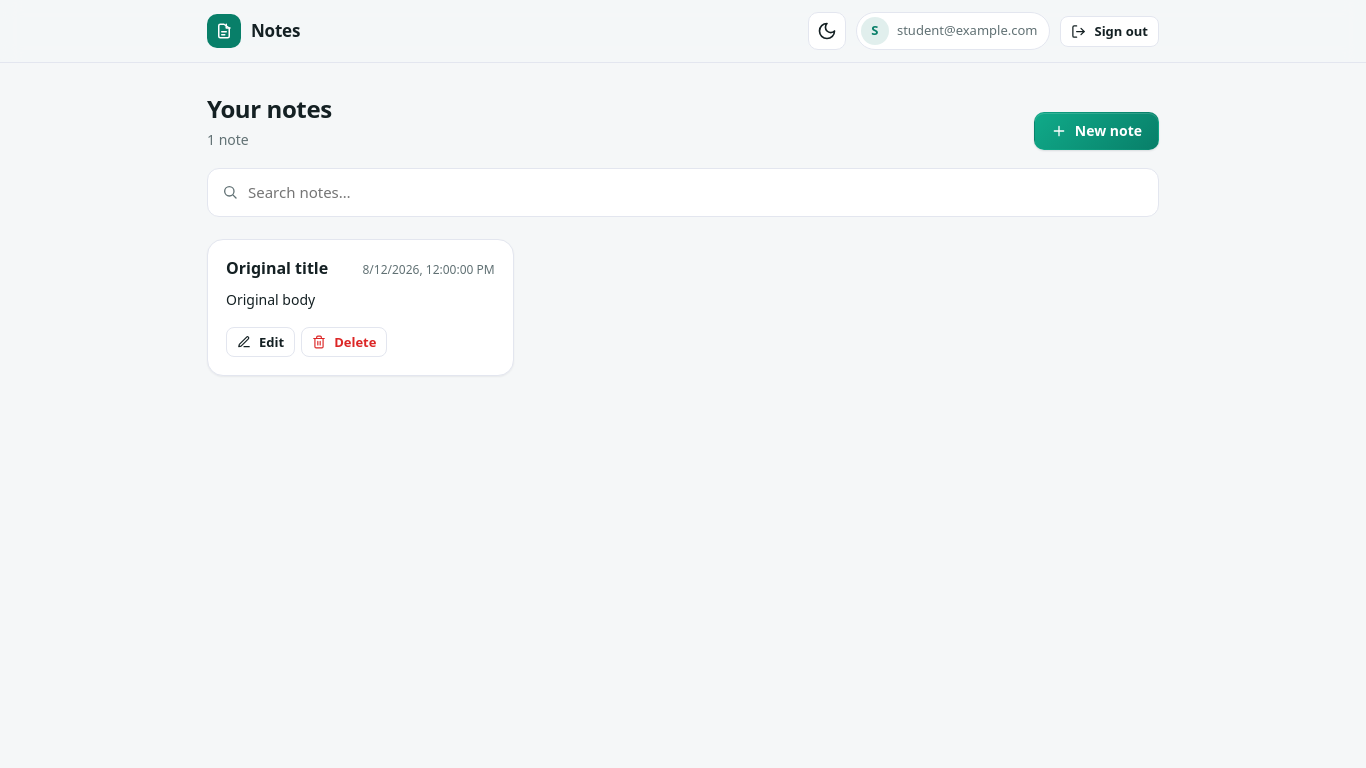
Test: AppShell state transitions › deletes after confirmation without refetching the list
The width and height of the screenshot is (1366, 768).
Check: the heading "Original title" is shown, box [226, 258, 328, 279]
Click the button "Delete" at [344, 342], box [301, 328, 387, 358]
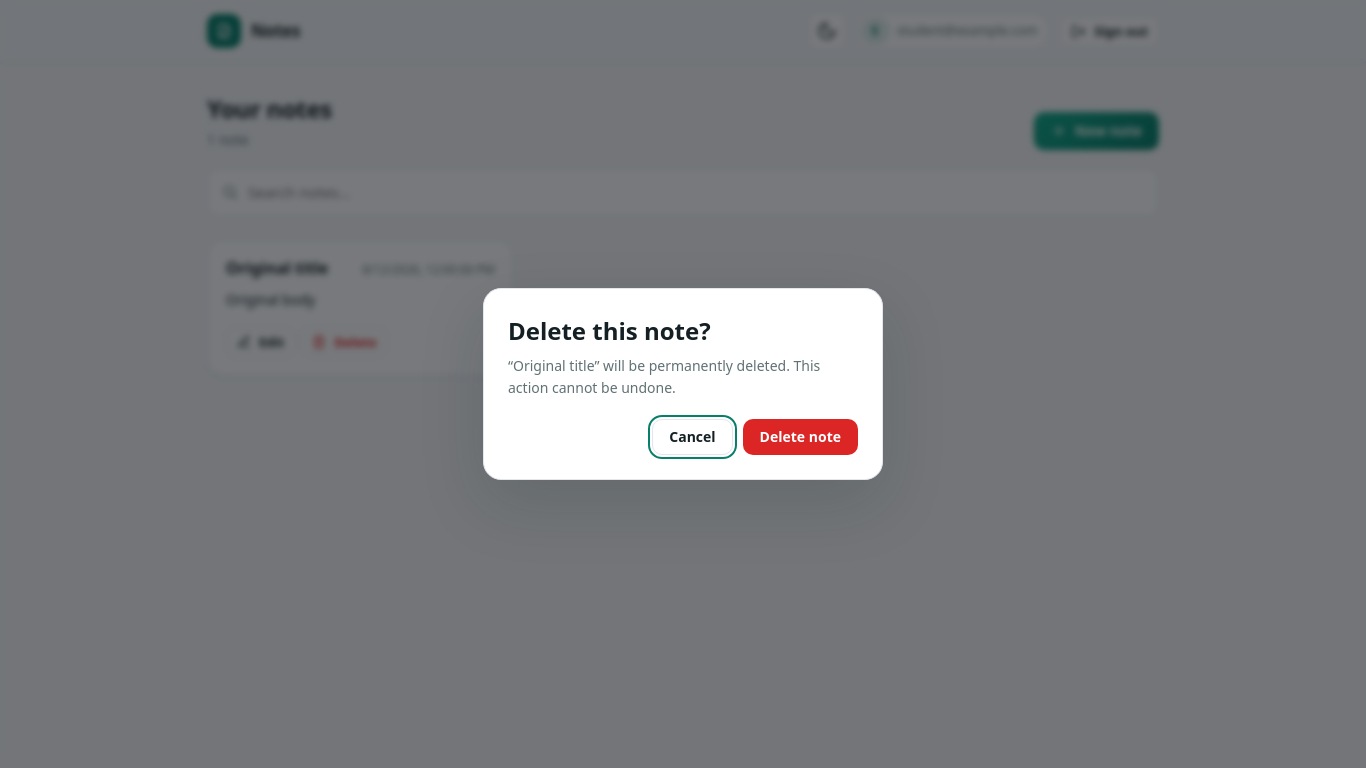
Click the button "Delete note" at [800, 437], box [743, 419, 858, 455]
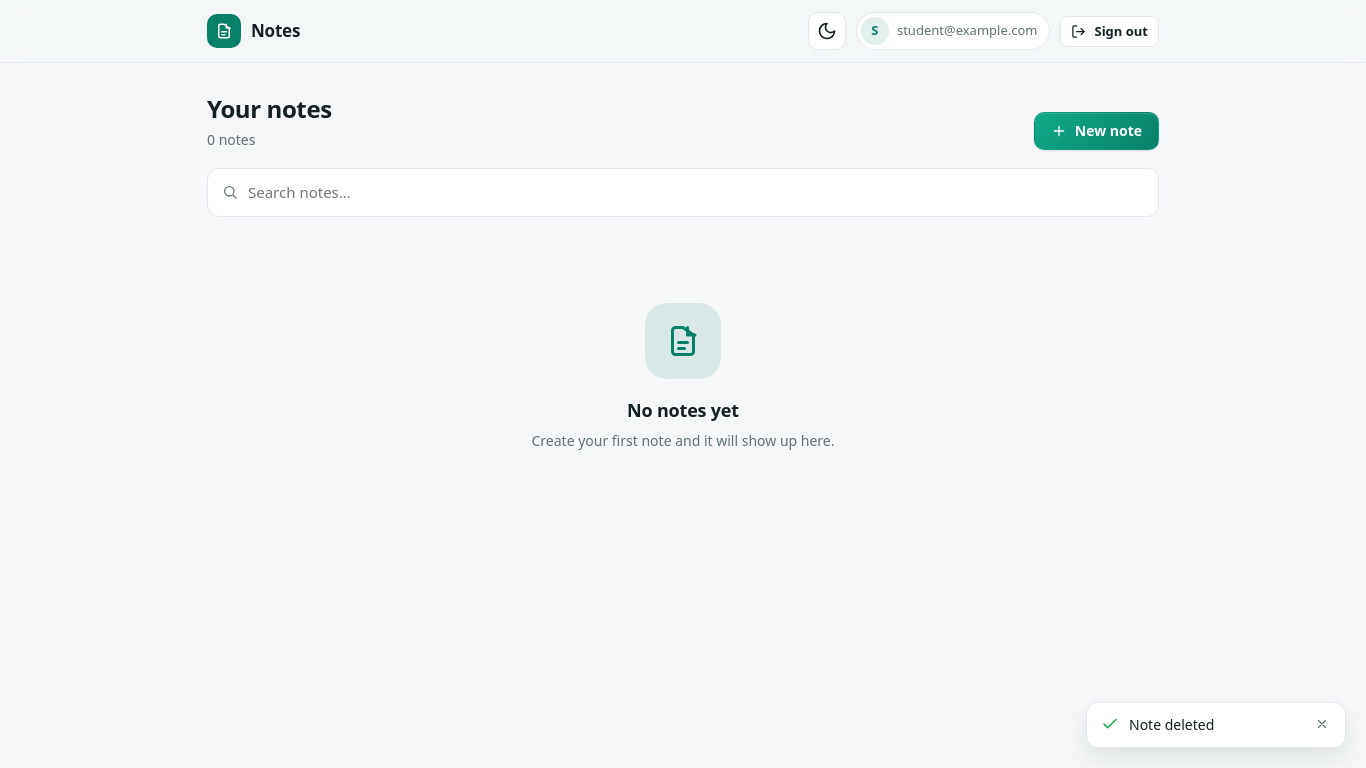
Check: the heading "Original title" is gone
